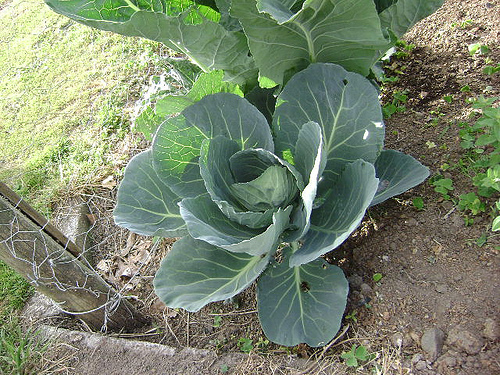cabbage: (112, 59, 433, 350)
